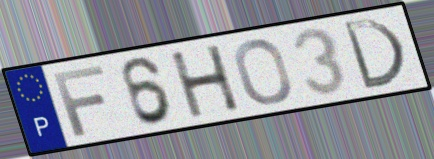3: (290, 24, 350, 99)
6: (118, 53, 173, 127)
D: (339, 17, 409, 92)
F: (50, 62, 109, 139)
H: (167, 42, 244, 121)
O: (232, 36, 295, 107)
